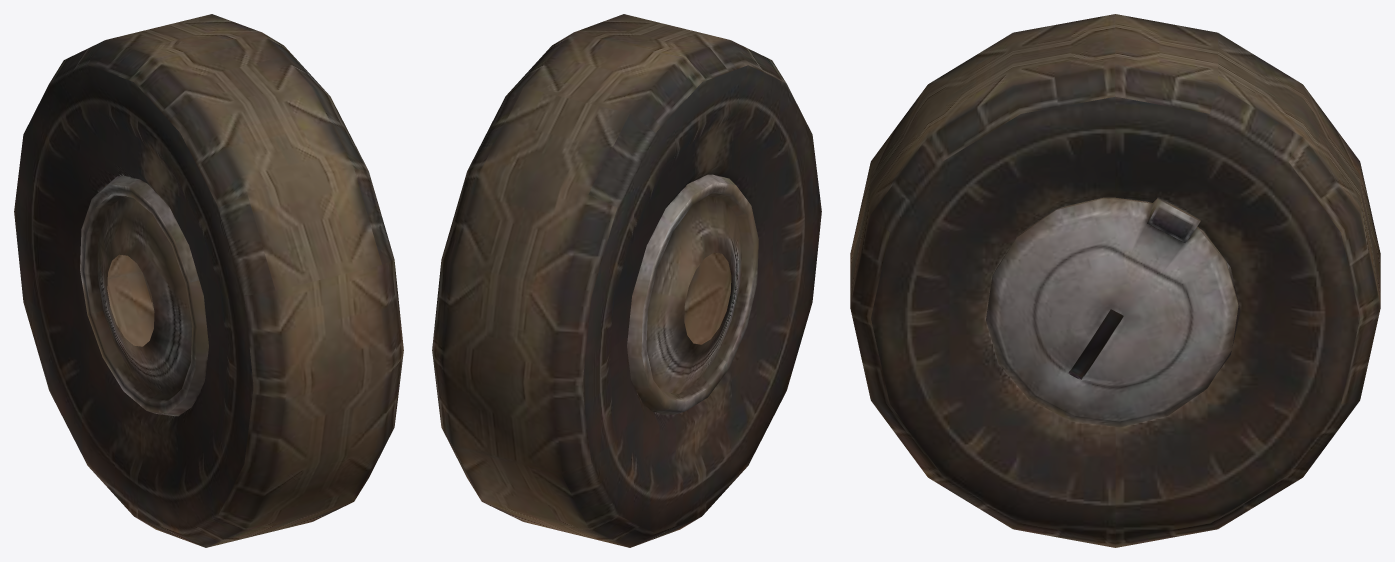
Rendered from hauler_wheel.glb.
3 views of the same model, side by side, from view 1: azimuth 30°, elevation 25°; view 2: azimuth 150°, elevation 25°; view 3: azimuth 270°, elevation 25° (orthographic). The views are drawn at different scales.
Visible parts, largest first — view 1: hauler_wheel; view 2: hauler_wheel; view 3: hauler_wheel.
Boxes of the visible parts, left/top/right/bottom form: hauler_wheel: left=14, top=14, right=403, bottom=547; hauler_wheel: left=432, top=14, right=821, bottom=547; hauler_wheel: left=850, top=14, right=1380, bottom=547.
Bounding box in the file's own units: 0.4561 × 1.28 × 1.28.
1 material, 1 textured.
